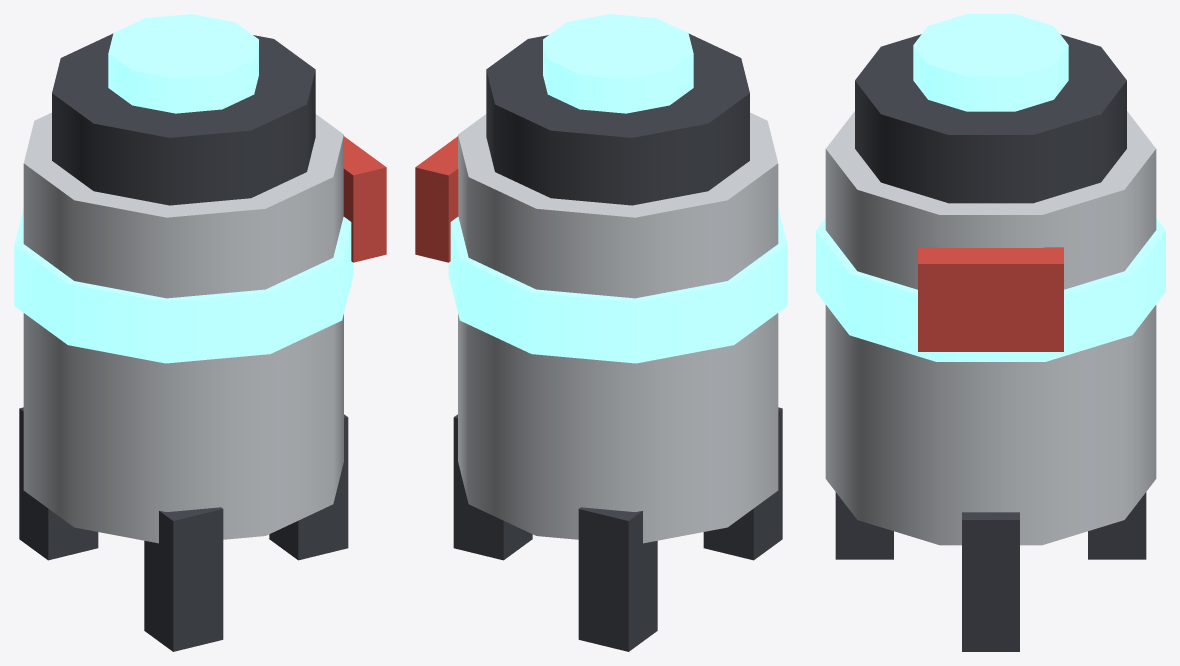
The model's file is shield_dome.glb.
3 renders of one model, left to right at view 1: azimuth 30°, elevation 25°; view 2: azimuth 150°, elevation 25°; view 3: azimuth 270°, elevation 25°, orthographic.
Parts seen in each view (by area): view 1: Merged; view 2: Merged; view 3: Merged.
Part boxes in pixels (<box>): Merged: <box>14,14,386,651</box>; Merged: <box>415,14,787,651</box>; Merged: <box>816,14,1165,651</box>.
Bounding box in the file's own units: 0.1448 × 0.236 × 0.1404.
